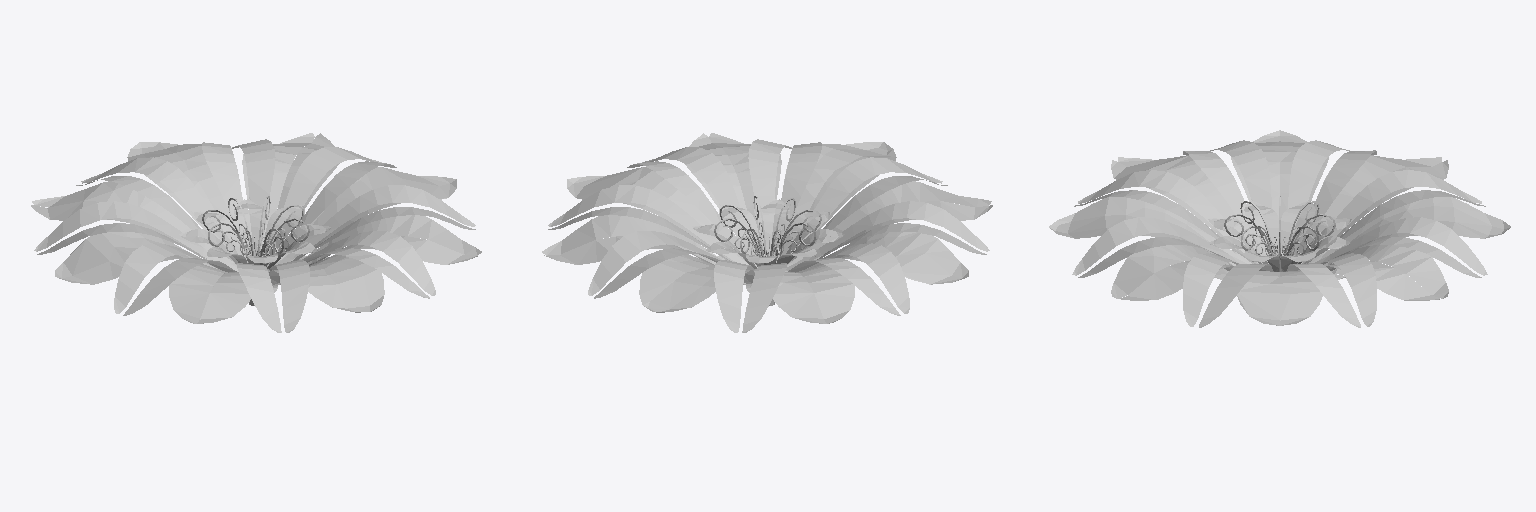
File: flower_large.obj
The picture shows the model from 3 angles: view 1: azimuth 30°, elevation 25°; view 2: azimuth 150°, elevation 25°; view 3: azimuth 270°, elevation 25°; orthographic projection.
Parts seen in each view (by area): view 1: Ground_Flower_Large_Plane.001; view 2: Ground_Flower_Large_Plane.001; view 3: Ground_Flower_Large_Plane.001.
Part boxes in pixels (x1,y1,x2,y2): Ground_Flower_Large_Plane.001: (31, 133, 481, 332); Ground_Flower_Large_Plane.001: (542, 133, 992, 332); Ground_Flower_Large_Plane.001: (1049, 130, 1510, 327).
Bounding box in the file's own units: 10.5 × 2.37 × 10.5.